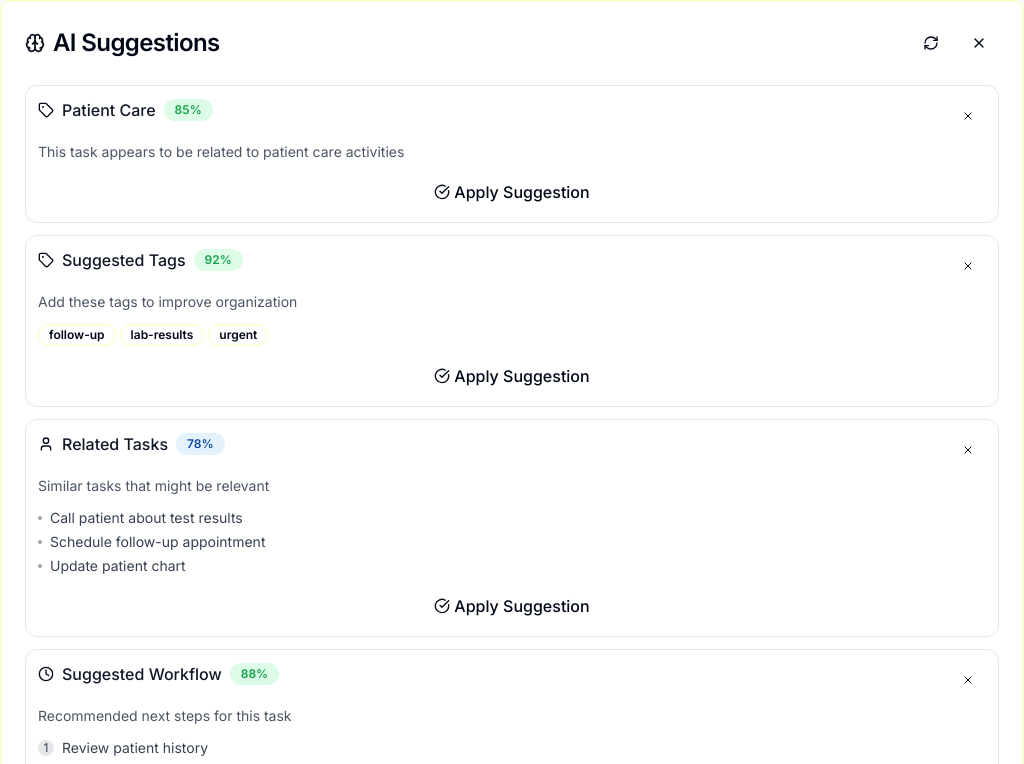
Test case: AISuggestionPanel › shows disabled state when AI is disabled
Note: Click disable button
Click the button with test id "disable-ai" at [979, 43], box [959,25,999,61]
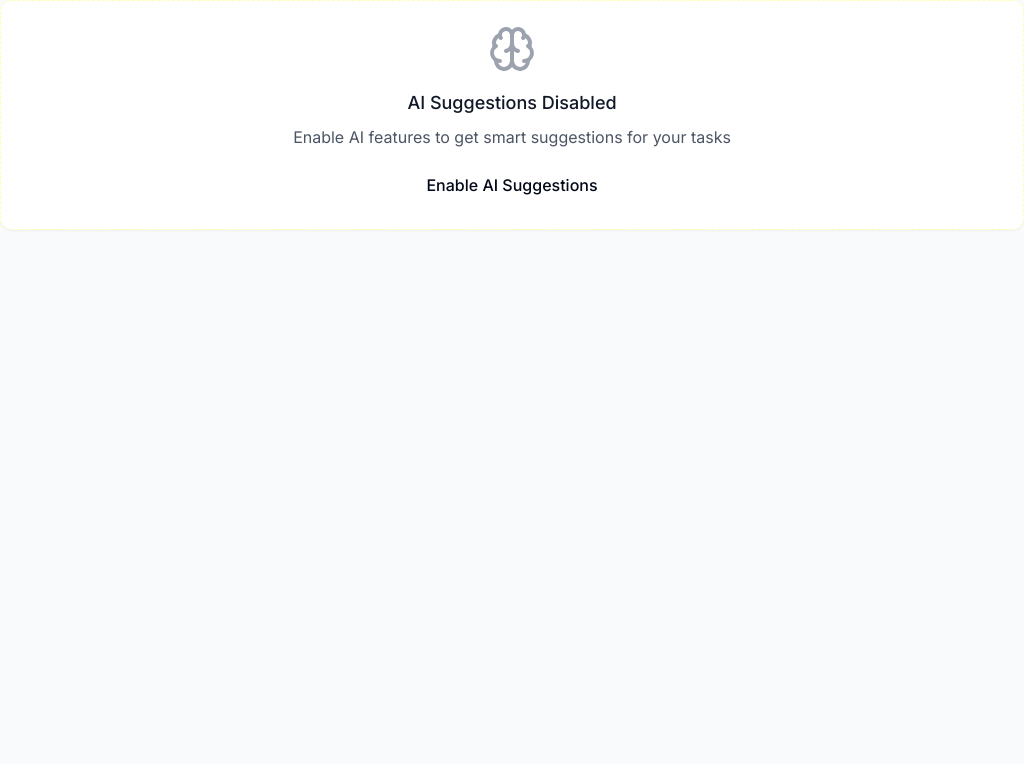
Check: the heading "AI Suggestions Disabled" is shown, box [407,92,617,113]
Check: the button "Enable AI Suggestions" is shown, box [410,165,614,205]
